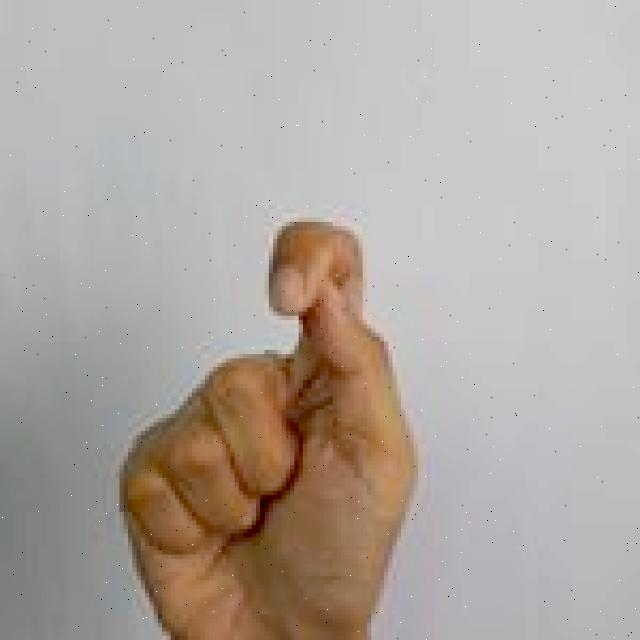T: (110, 212, 434, 640)
